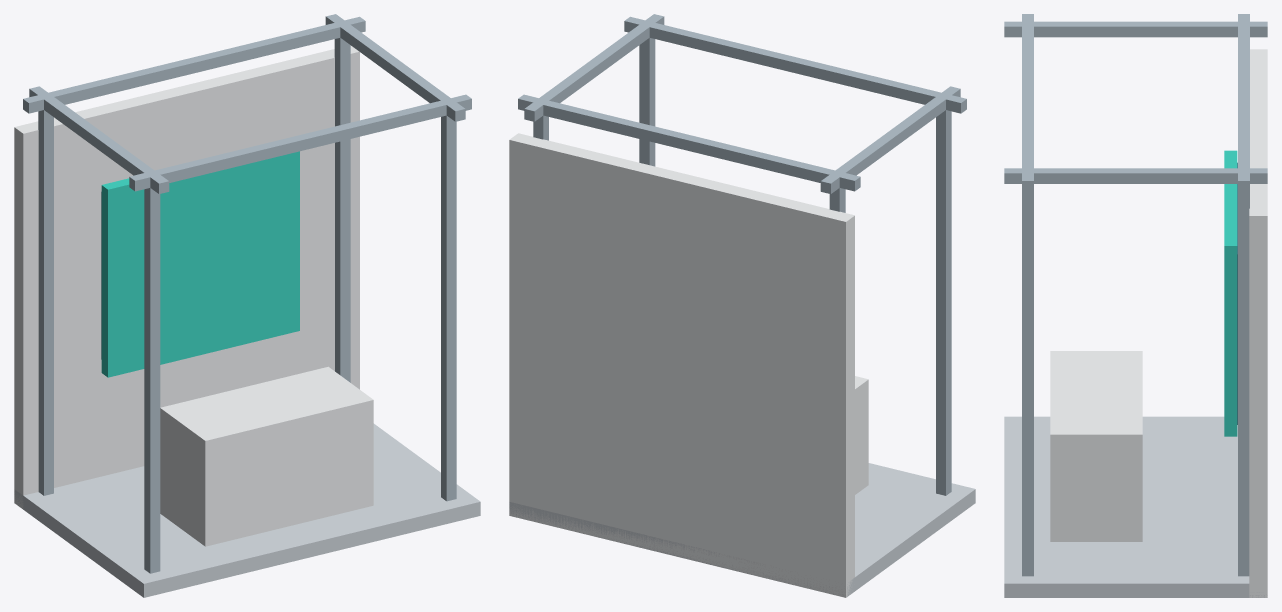
The picture shows the model from 3 angles, left to right: view 1: azimuth 30°, elevation 25°; view 2: azimuth 150°, elevation 25°; view 3: azimuth 270°, elevation 25°; orthographic projection.
Parts seen in each view (by area): view 1: Exhibition Booth Concept; view 2: Exhibition Booth Concept; view 3: Exhibition Booth Concept.
Part boxes in pixels (x1,y1,x2,y2): Exhibition Booth Concept: (14, 14, 480, 597); Exhibition Booth Concept: (509, 14, 975, 597); Exhibition Booth Concept: (1004, 14, 1267, 597).
Size of the model in its own units: 3 by 3.49 by 2.
